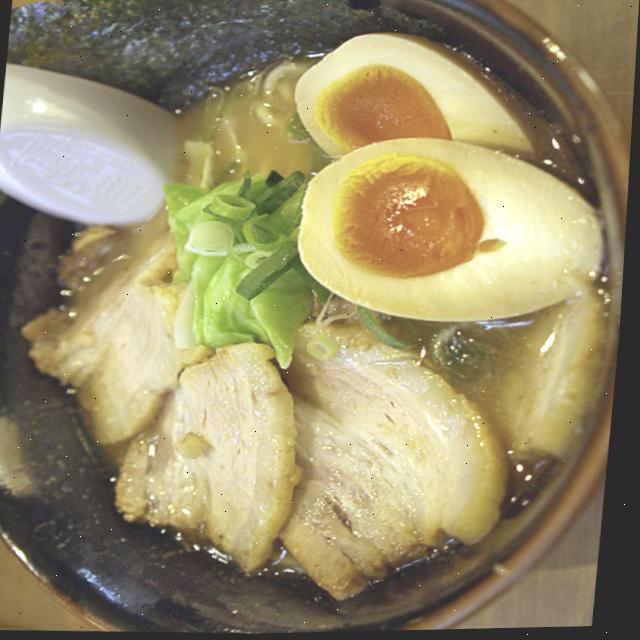面条主食: (0, 1, 639, 617)
